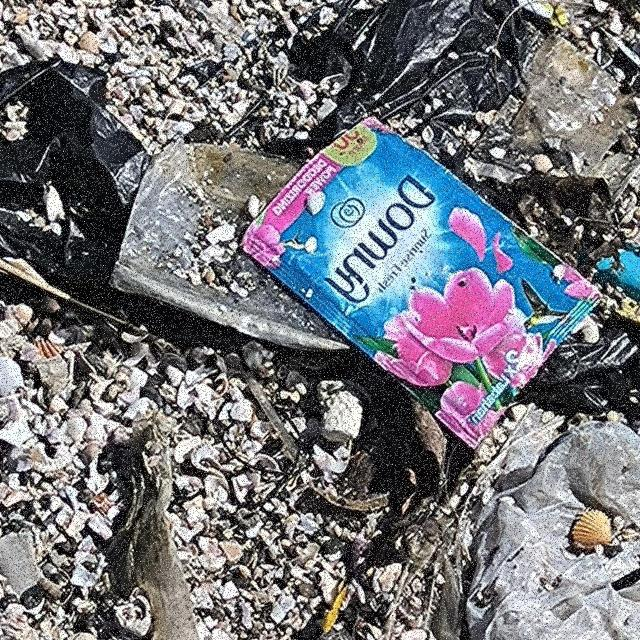plastic_waste: (238, 114, 606, 452)
